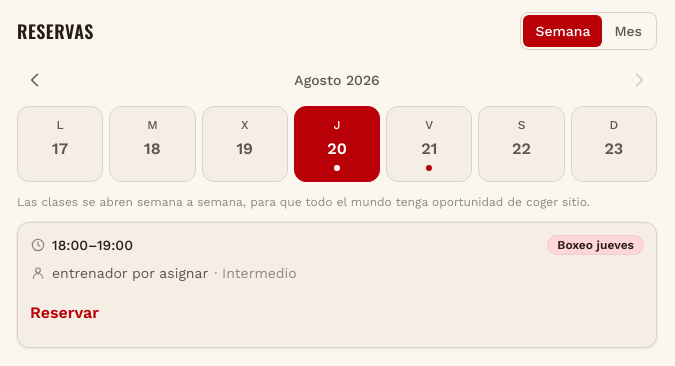
it: ReservasPage › muestra solo las clases del día seleccionado y cambia al elegir otro día
Expected: the text "Boxeo jueves" is shown, [547,235,644,255]
Expected: the text "Boxeo viernes" is not shown
Click the text "21" at (429, 149), box [421,137,437,161]
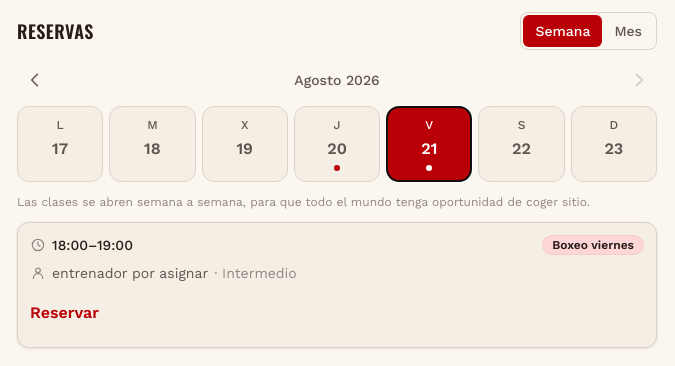
Expected: the text "Boxeo viernes" is shown, [542,235,644,255]
Expected: the text "Boxeo jueves" is gone
